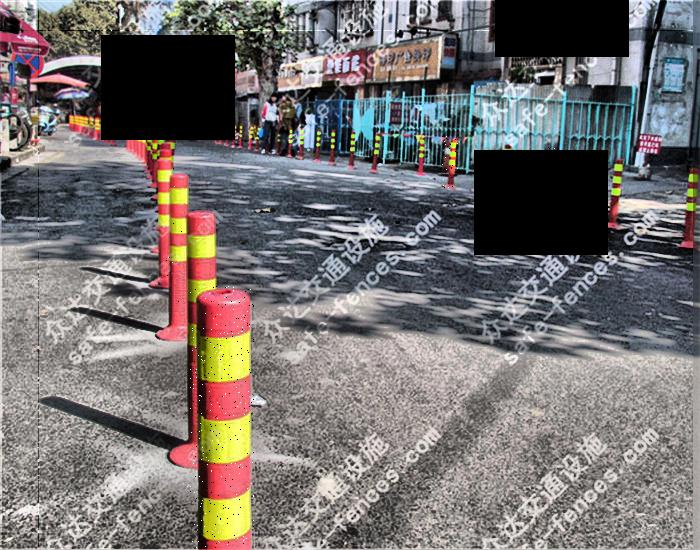bench: (190, 286, 255, 549), (166, 168, 187, 346), (541, 147, 560, 217), (442, 131, 460, 190)
